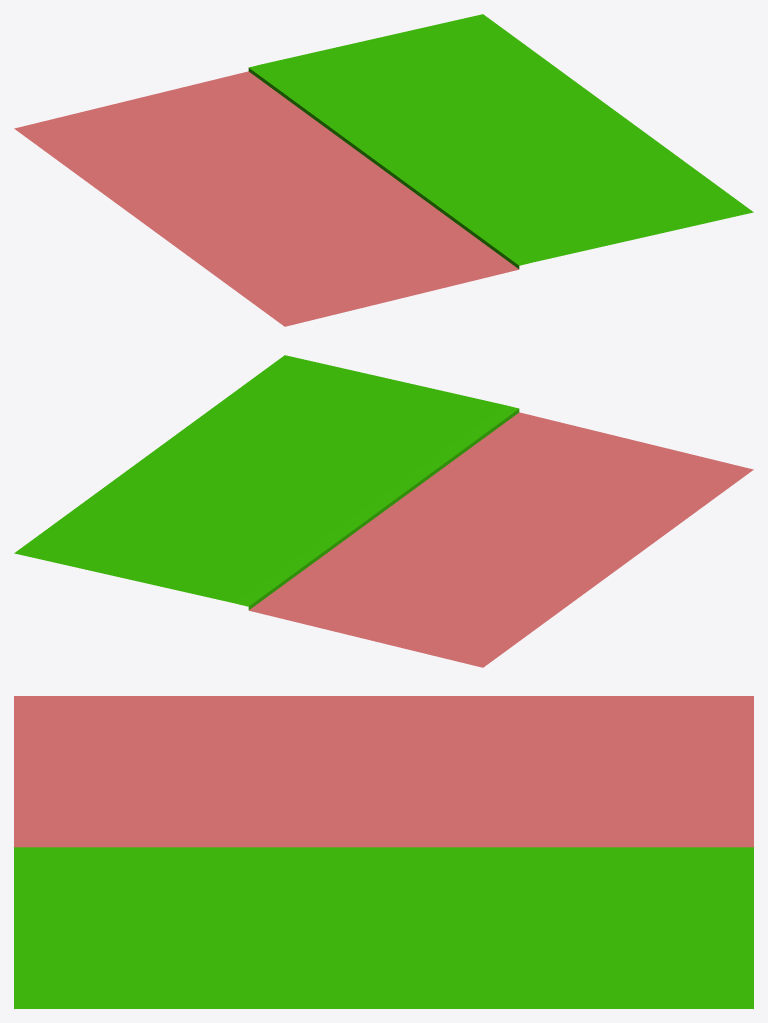
Rendered from En_G_Floor2.fbx.
3 renders of one model, top to bottom at view 1: azimuth 30°, elevation 25°; view 2: azimuth 150°, elevation 25°; view 3: azimuth 270°, elevation 25°, orthographic. The views are drawn at different scales.
Visible parts, largest first — view 1: En_G_Floor2; view 2: En_G_Floor2; view 3: En_G_Floor2.
Part boxes in pixels (x1,y1,x2,y2): En_G_Floor2: [14, 14, 753, 326]; En_G_Floor2: [14, 355, 753, 667]; En_G_Floor2: [14, 696, 753, 1008].
Bounding box in the file's own units: 400 × 3.11 × 400.
